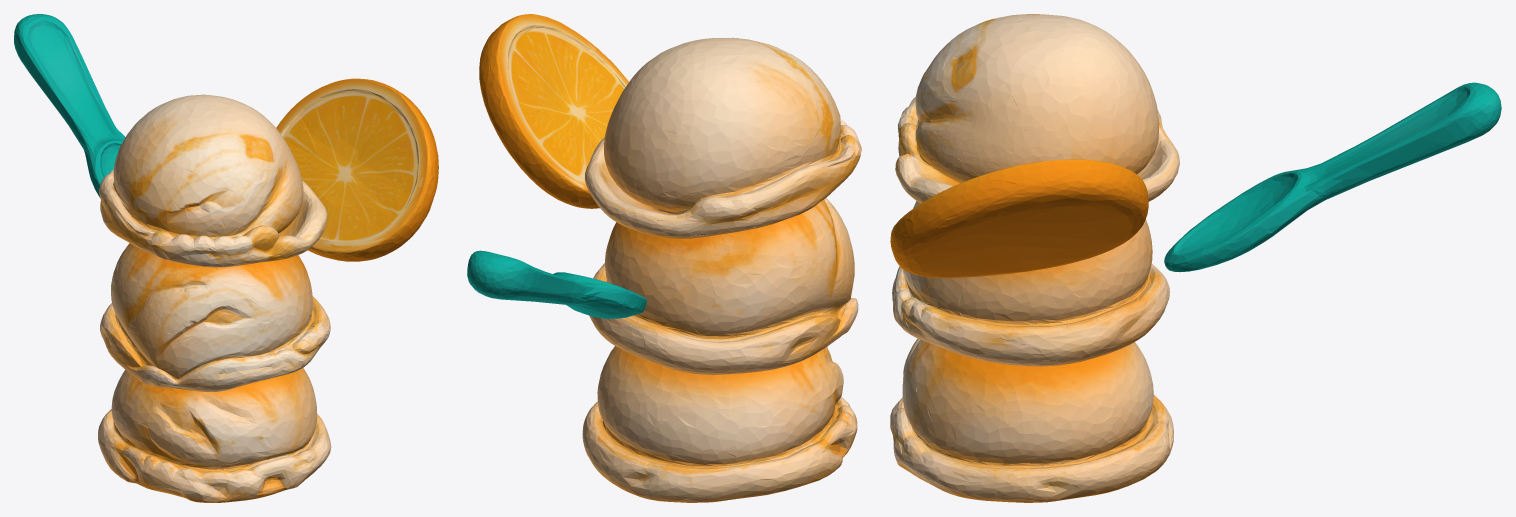
The model's file is Web_IceCream_Orange.obj.
3 renders of one model, left to right at view 1: azimuth 30°, elevation 25°; view 2: azimuth 150°, elevation 25°; view 3: azimuth 270°, elevation 25°, orthographic. The views are drawn at different scales.
Visible parts, largest first — view 1: Web_IceCream_Orange; view 2: Web_IceCream_Orange; view 3: Web_IceCream_Orange.
Boxes of the visible parts, bbox=[...] form: Web_IceCream_Orange: bbox=[14, 14, 438, 502]; Web_IceCream_Orange: bbox=[467, 14, 861, 502]; Web_IceCream_Orange: bbox=[890, 14, 1501, 502].
Bounding box in the file's own units: 0.6965 × 0.7872 × 1.03.
Materials: 1 (1 with a texture image).
